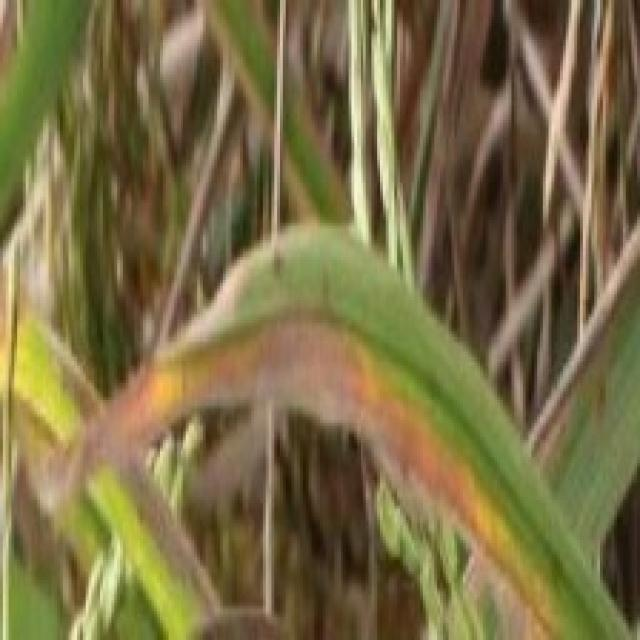Rice___Bacterial_Leaf_Blight: (39, 220, 637, 637)
